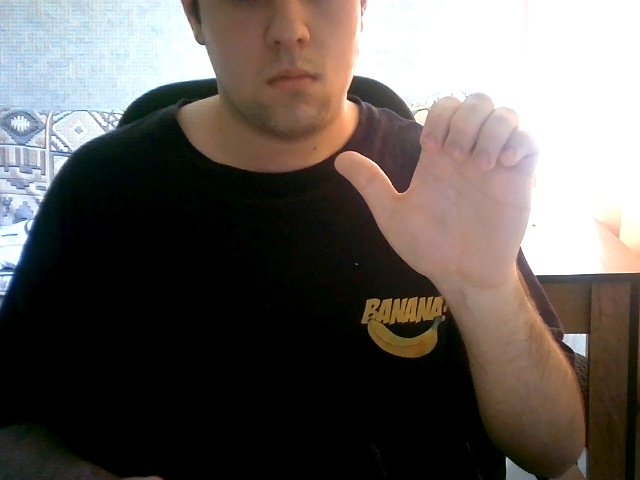goodbye: (330, 87, 576, 285)
